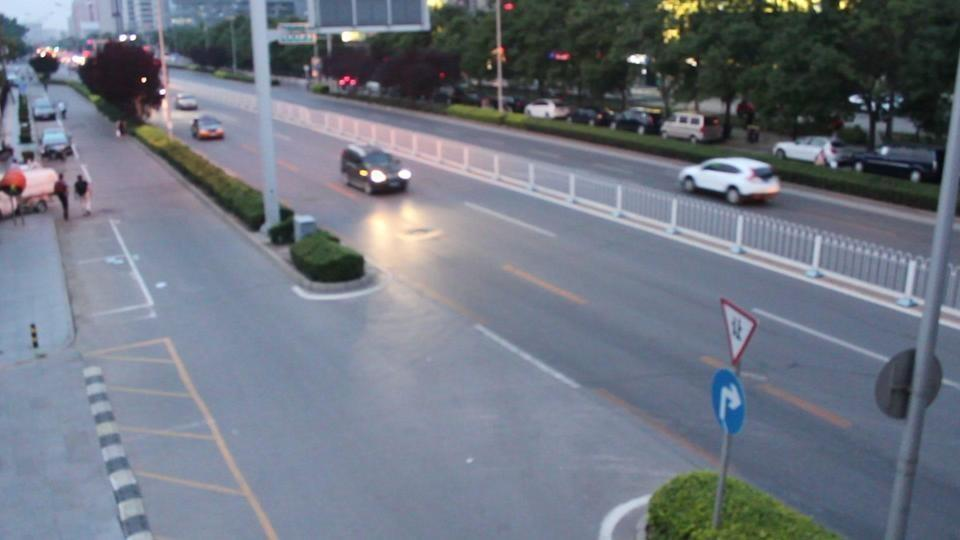car: (677, 156, 781, 206), (339, 144, 411, 196), (1, 163, 63, 217), (848, 147, 939, 183), (772, 137, 858, 169), (660, 114, 726, 144), (611, 109, 663, 135), (39, 127, 72, 160), (526, 100, 571, 120), (190, 115, 225, 140), (567, 106, 606, 126), (31, 97, 61, 121), (175, 94, 198, 110)
